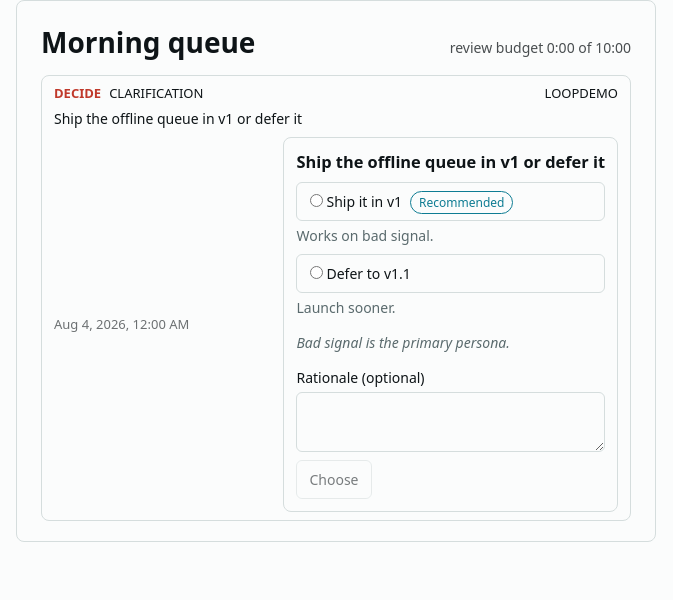
Test: review fixes: decisions that fail say so and stay said (Q1-Q4) › RED FIXTURE (Q2): a failed Choose keeps the options and shows the server reason in the slate card
Expected: the element with test id "queue-slate-slate-1" is shown, x1=284 y1=136 x2=618 y2=512
Click the radio button labelled "Defer to v1.1". click: (317, 273)
box: x1=310 y1=266 x2=324 y2=279
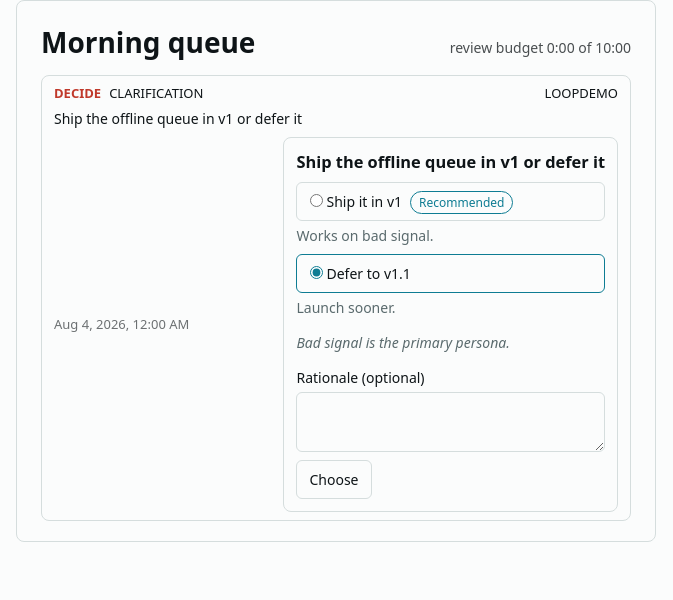
Click the button "Choose". click: (334, 480)
box: x1=296 y1=460 x2=372 y2=499
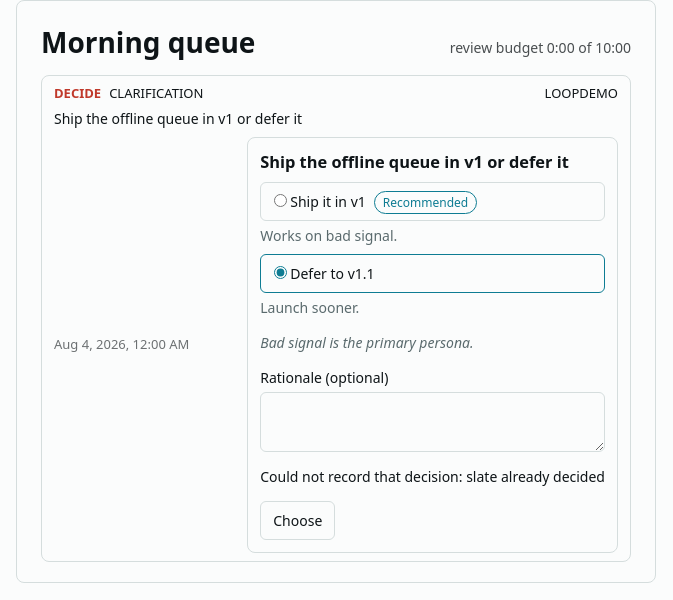
Expected: the text "Ship it in v1" is shown, x1=290 y1=192 x2=366 y2=211
Expected: the message shows "slate already decided", x1=260 y1=467 x2=605 y2=486
